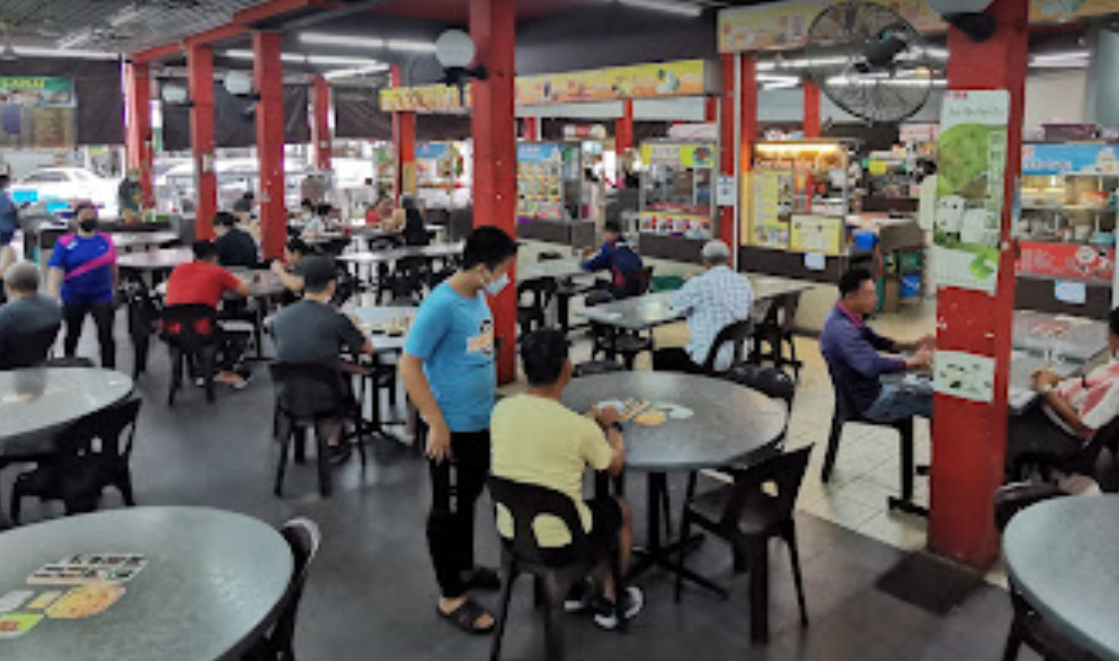sit: (504, 330, 625, 627), (253, 257, 382, 457), (818, 246, 916, 468)
stand: (408, 234, 504, 617)
